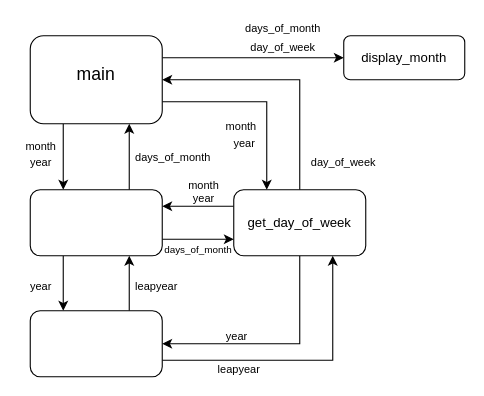
This 484x396 diagram has some shape labels left out. Each missing label, with the centre of its shape:
get_days_of_month: the point at 95,222
is_leap_year: the point at 95,343
